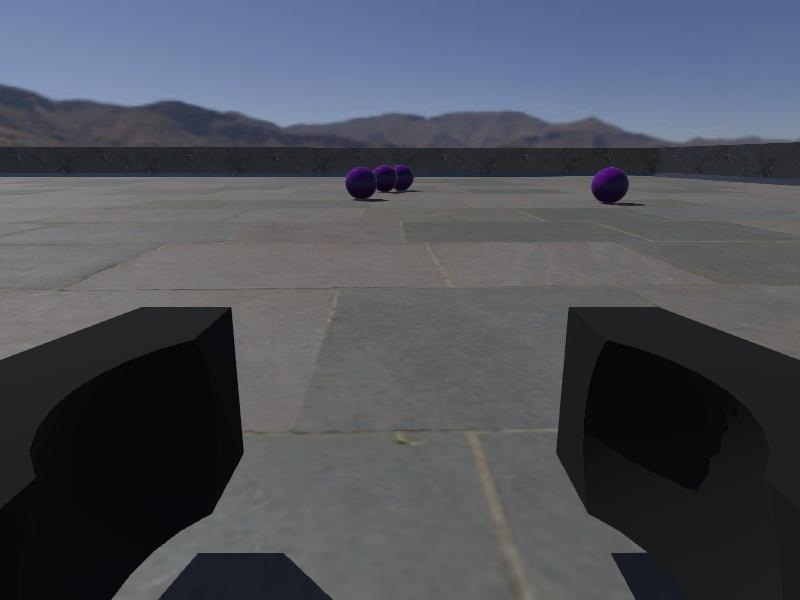violet ball: (591, 167, 630, 204), (345, 165, 378, 200)
